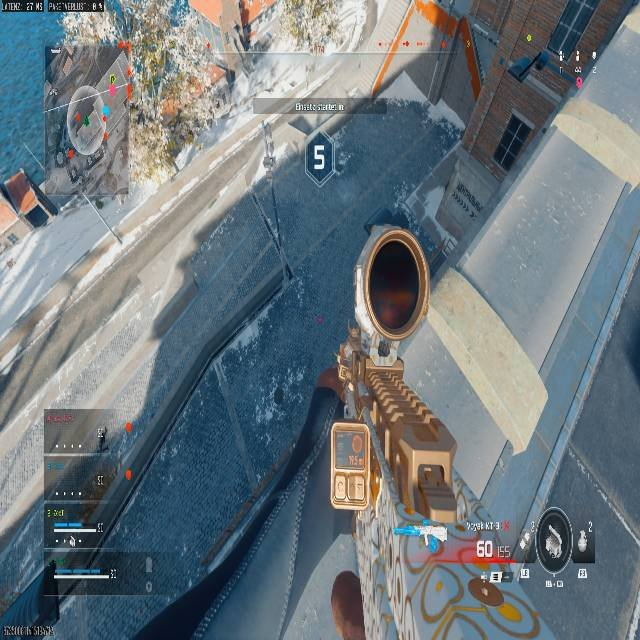head: (354, 245, 428, 335)
player: (319, 240, 480, 526)
